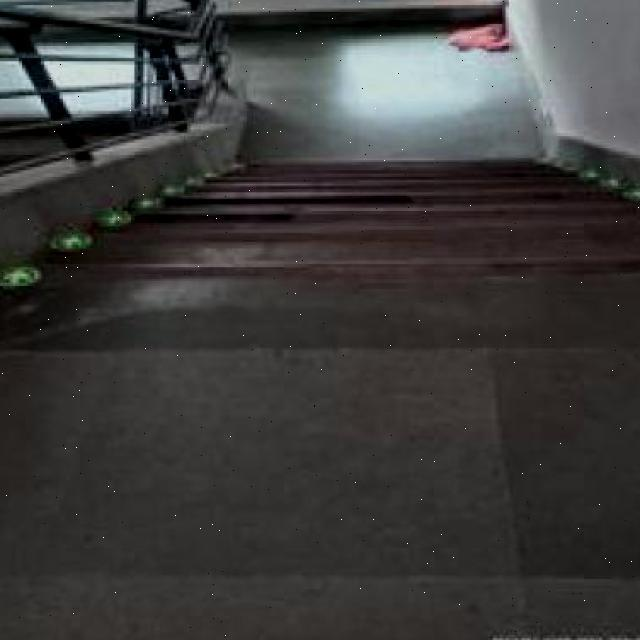stair: (131, 140, 609, 317)
